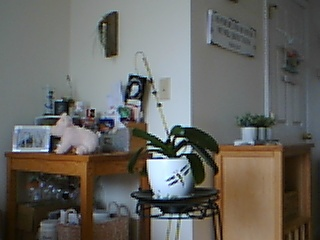piggy: (50, 112, 102, 156)
